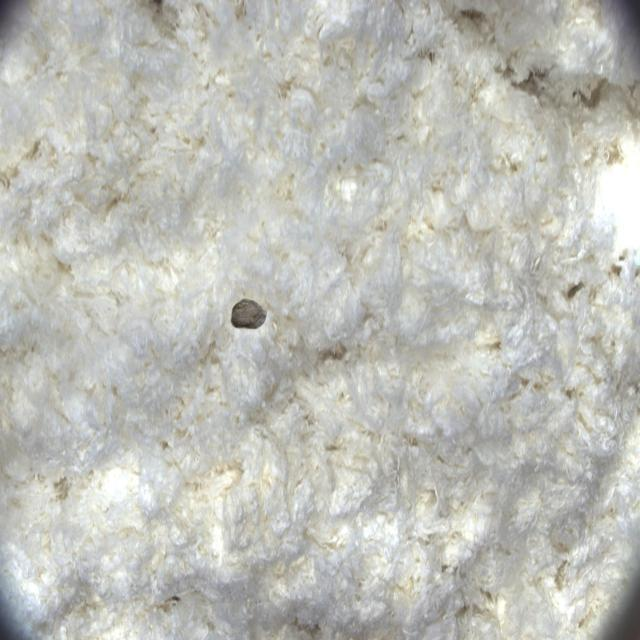dust: (213, 248, 295, 363)
